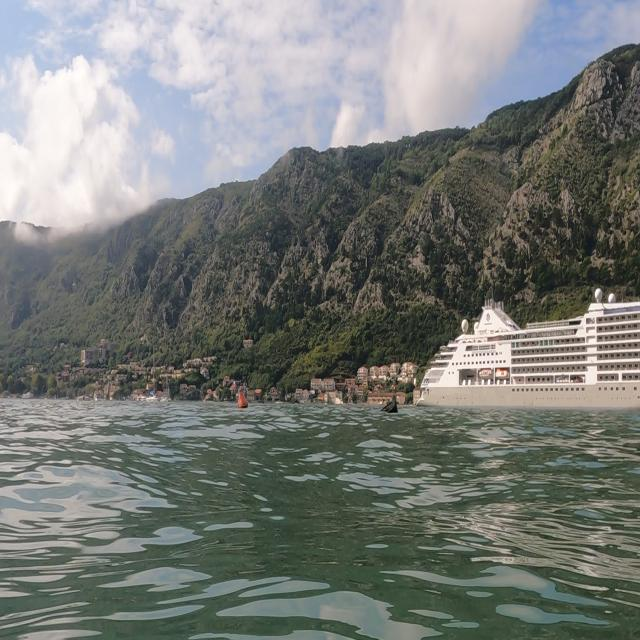boat: (412, 284, 638, 412)
buoy: (232, 381, 255, 417), (380, 397, 402, 422)
